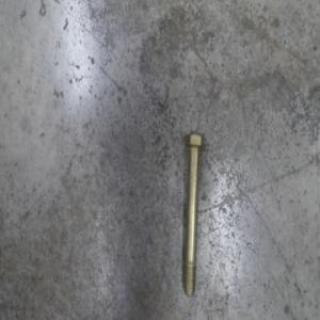Bolttrack_idkeyframe: (181, 130, 204, 298)
